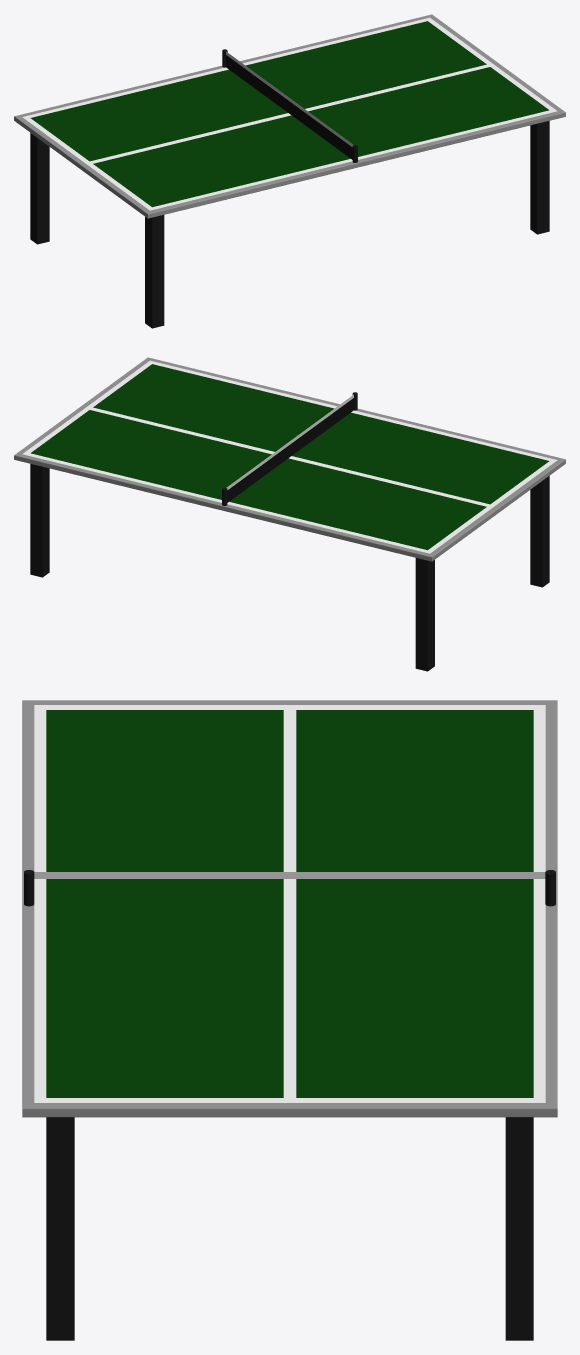
Rendered from table.fbx.
The picture shows the model from 3 angles, top to bottom: view 1: azimuth 30°, elevation 25°; view 2: azimuth 150°, elevation 25°; view 3: azimuth 270°, elevation 25°; orthographic projection. The views are drawn at different scales.
Parts seen in each view (by area): view 1: Box001, Box005, Box004, Plane001, Box002; view 2: Box001, Box002, Box003, Plane001, Box005; view 3: Box001, Box003, Box004, Plane001.
Part boxes in pixels (<box>): Box001: <box>14,14,565,218</box>; Box005: <box>145,215,164,328</box>; Box004: <box>530,121,549,234</box>; Plane001: <box>226,51,353,159</box>; Box002: <box>30,133,49,244</box>; Box001: <box>14,357,565,561</box>; Box002: <box>415,558,434,671</box>; Box003: <box>30,464,49,577</box>; Plane001: <box>226,394,353,502</box>; Box005: <box>530,476,549,587</box>; Box001: <box>22,700,557,1117</box>; Box003: <box>505,1117,533,1340</box>; Box004: <box>46,1117,74,1340</box>; Plane001: <box>34,872,545,878</box>.
Size of the model in its own units: 108 by 33.85 by 59.84.
